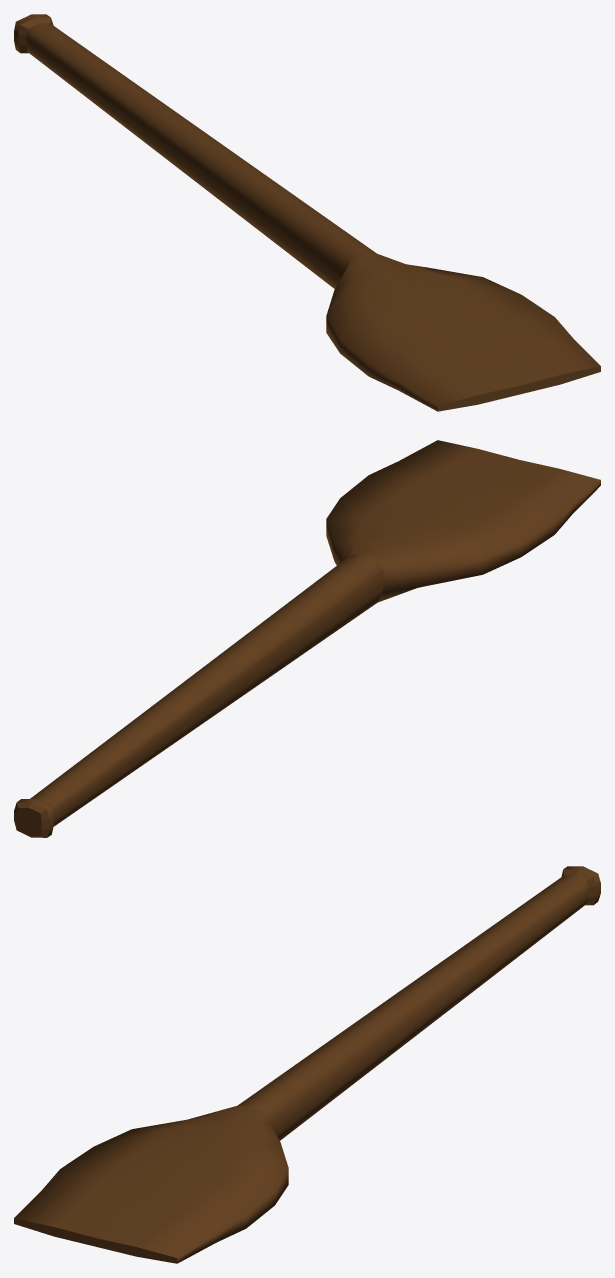
The model's file is Remo001.fbx.
The picture shows the model from 3 angles, top to bottom: view 1: azimuth 30°, elevation 25°; view 2: azimuth 150°, elevation 25°; view 3: azimuth 330°, elevation 25°; orthographic projection.
Visible parts, largest first — view 1: Remo; view 2: Remo; view 3: Remo.
Part boxes in pixels (left/top/right/bottom): Remo: left=14, top=14, right=600, bottom=411; Remo: left=14, top=440, right=600, bottom=837; Remo: left=14, top=866, right=600, bottom=1263.
Bounding box in the file's own units: 0.8468 × 0.2007 × 3.87.
